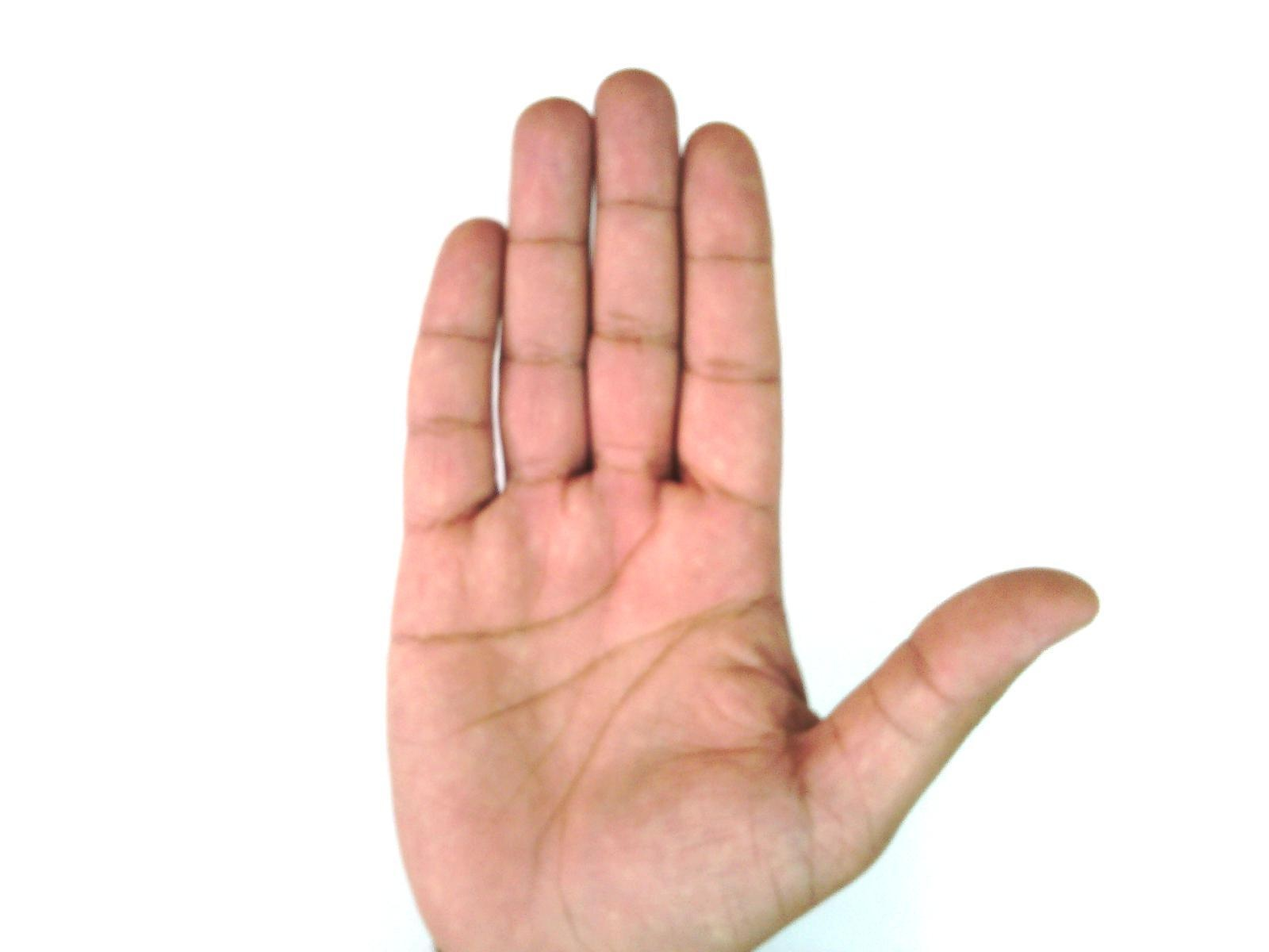open_palm: (381, 67, 1102, 951)
